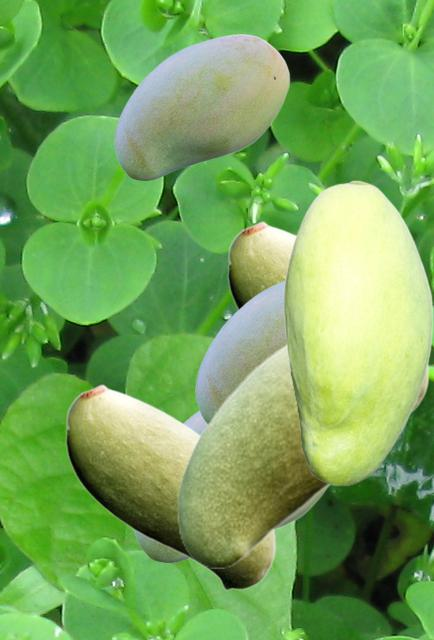green_mango: (283, 180, 432, 485), (65, 383, 275, 590), (227, 220, 428, 411), (176, 341, 330, 567), (131, 410, 328, 561), (114, 34, 289, 179), (195, 279, 284, 424)
